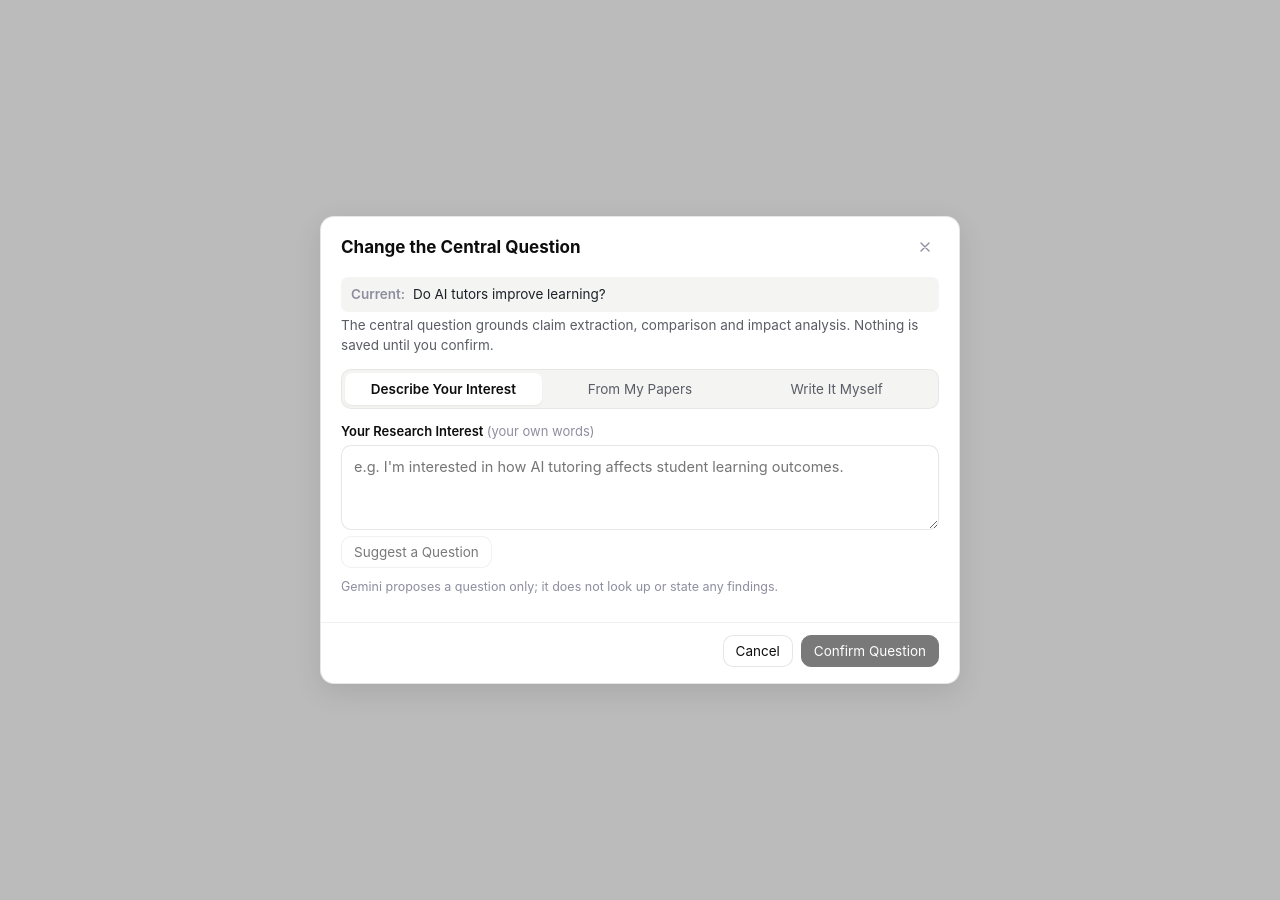
it: QuestionDialog: From My Papers › offers the project's stored papers when none are picked
What coordinates should you click on to do the following:
click the radio button labelled "From My Papers"
I would click on:
 (640, 389)
Its box is [542,373,738,405].
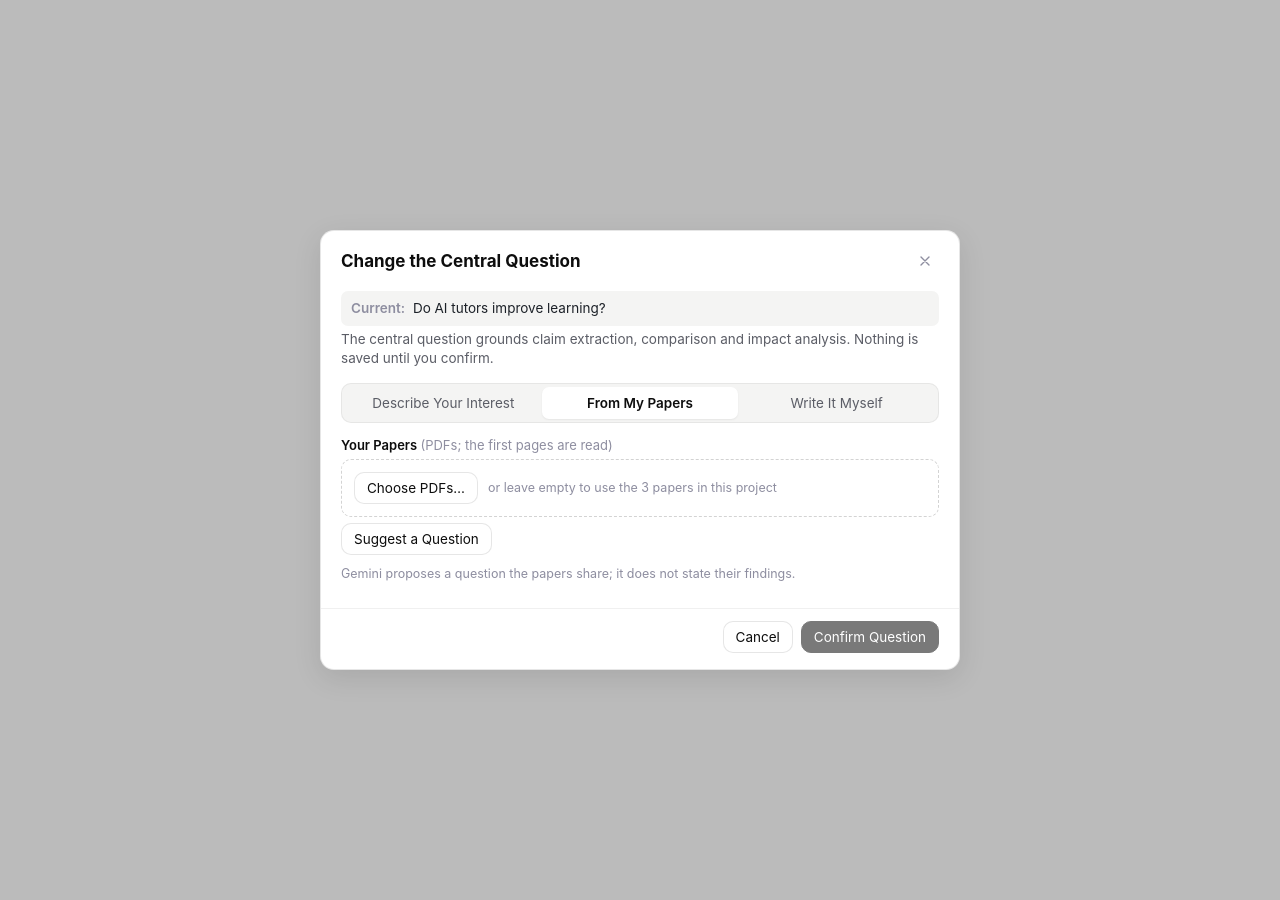
Expected: the text "or leave empty to use the 3 papers in this project" is shown, [488,480,777,495]
Expected: the button "Suggest a Question" is enabled, [341,523,492,555]
